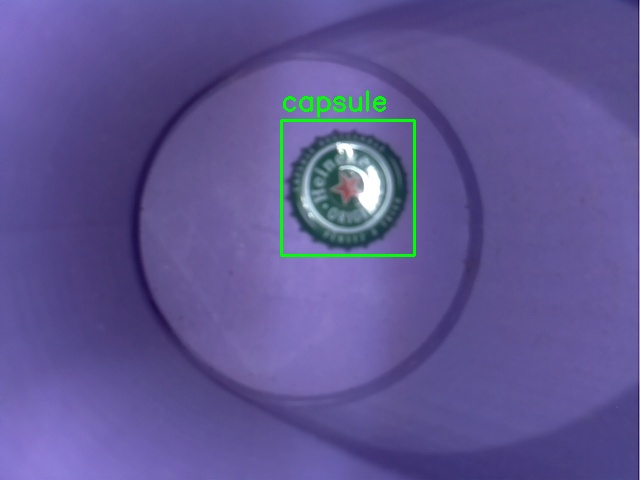capsule: (281, 120, 414, 255)
